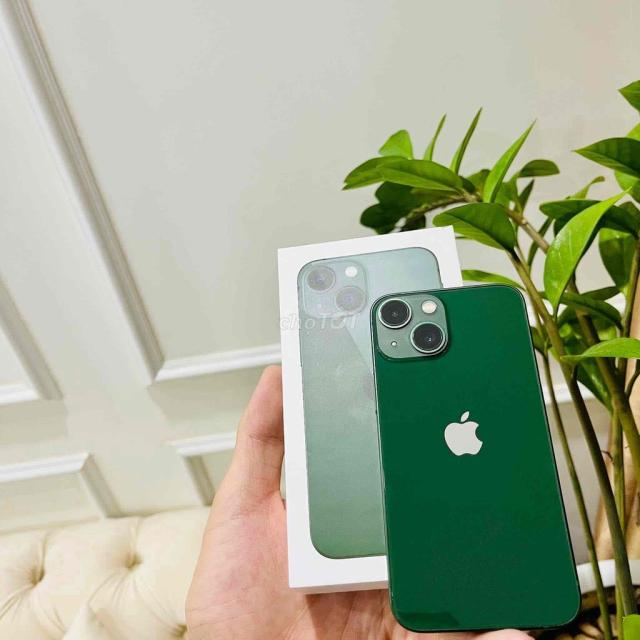gen_12_13: (368, 283, 588, 638)
